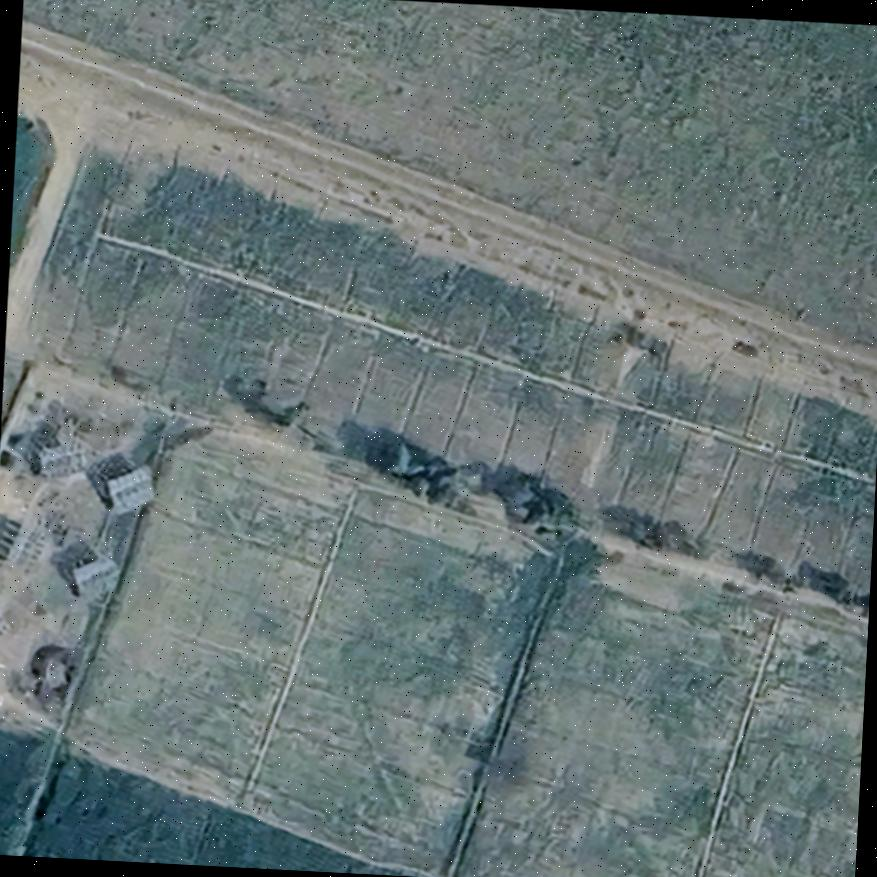Solarpanel: (105, 462, 157, 514), (5, 521, 43, 569), (72, 552, 116, 583)
